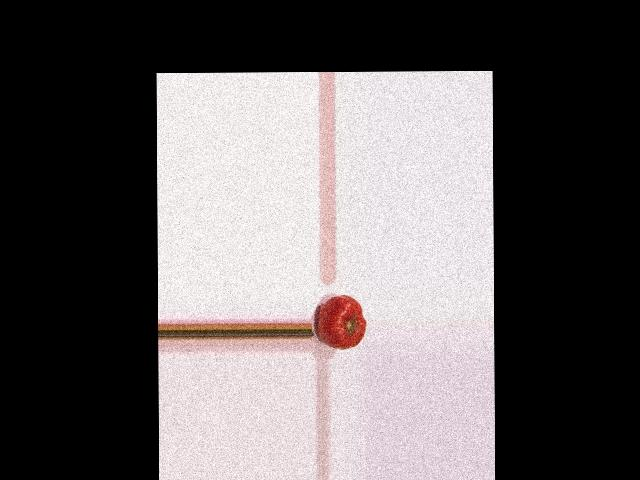tomato: (317, 295, 365, 349)
